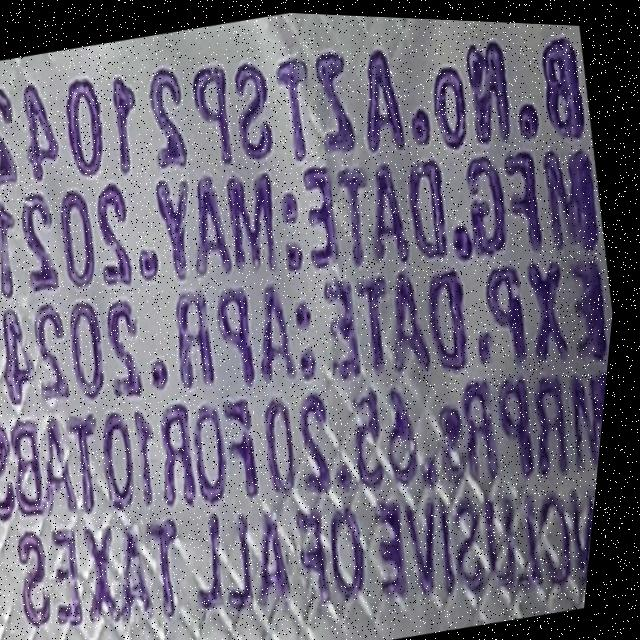sentence: (8, 235, 613, 419), (0, 365, 614, 533), (0, 128, 602, 297), (0, 18, 587, 188), (29, 463, 605, 626)
